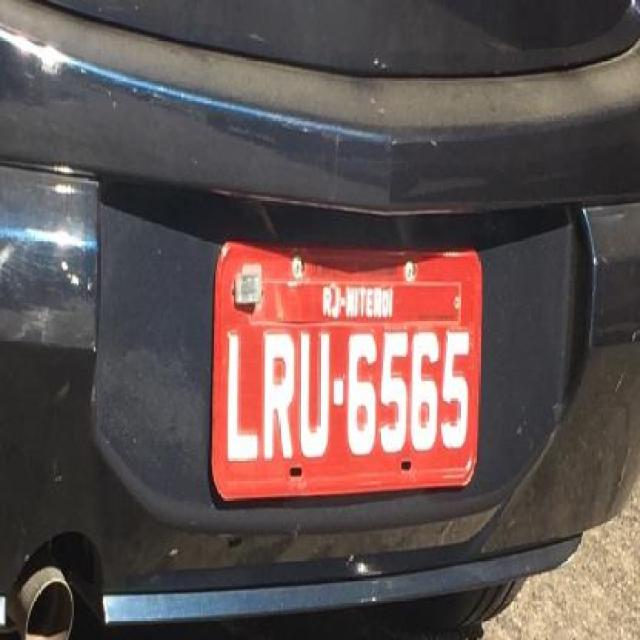old_plate: (200, 232, 494, 514)
